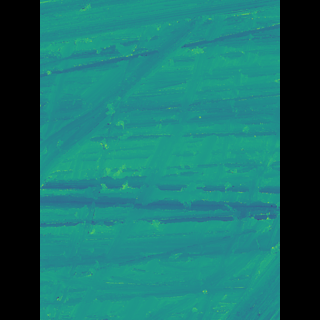Loch: (125, 134, 246, 286)
